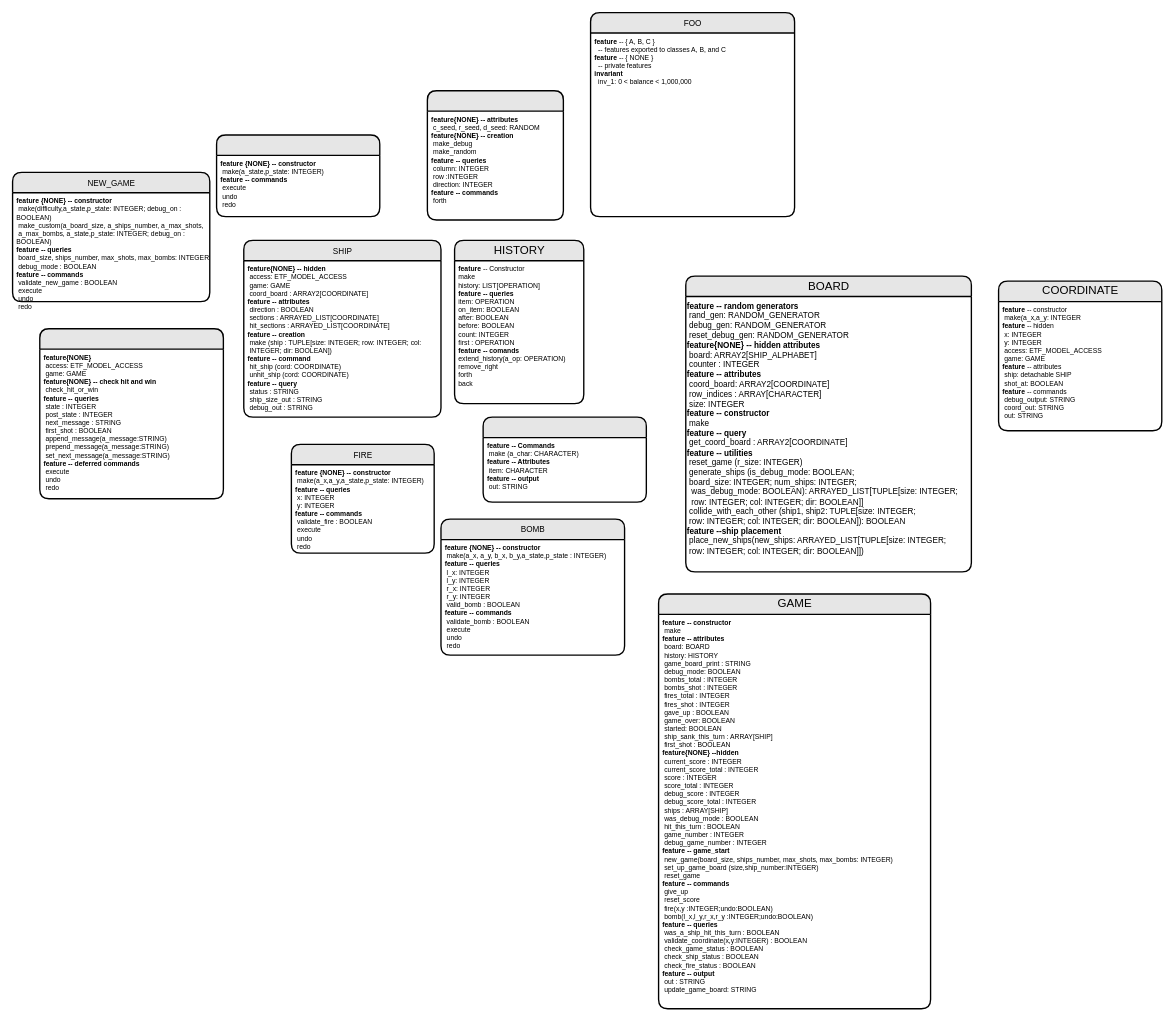
Some shapes in this 1174 by 1021 pixel diagram are drawn without their labels. The box of each missing label's shape, as (x1, y1, x2, y2) in pixels:
GIVE_UP: (216, 134, 380, 217)
OPERATION: (39, 328, 224, 499)
RANDOM_GENERATOR: (426, 90, 564, 220)
SHIP_ALPHABET: (482, 416, 647, 503)
